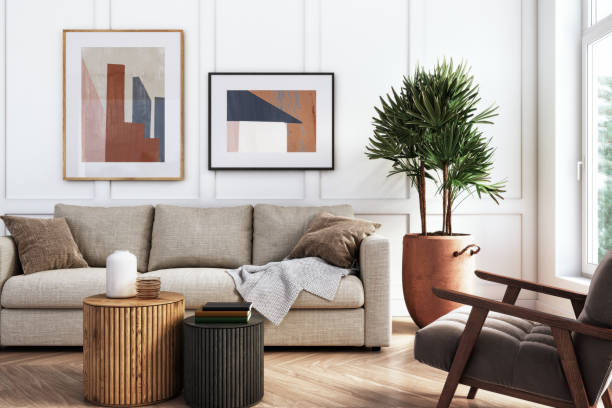chair: (412, 247, 612, 407)
large plant: (371, 61, 502, 326)
sofa: (0, 201, 392, 353)
table: (80, 289, 183, 406), (183, 312, 265, 396)
wall art: (60, 24, 188, 183), (204, 69, 337, 172)
